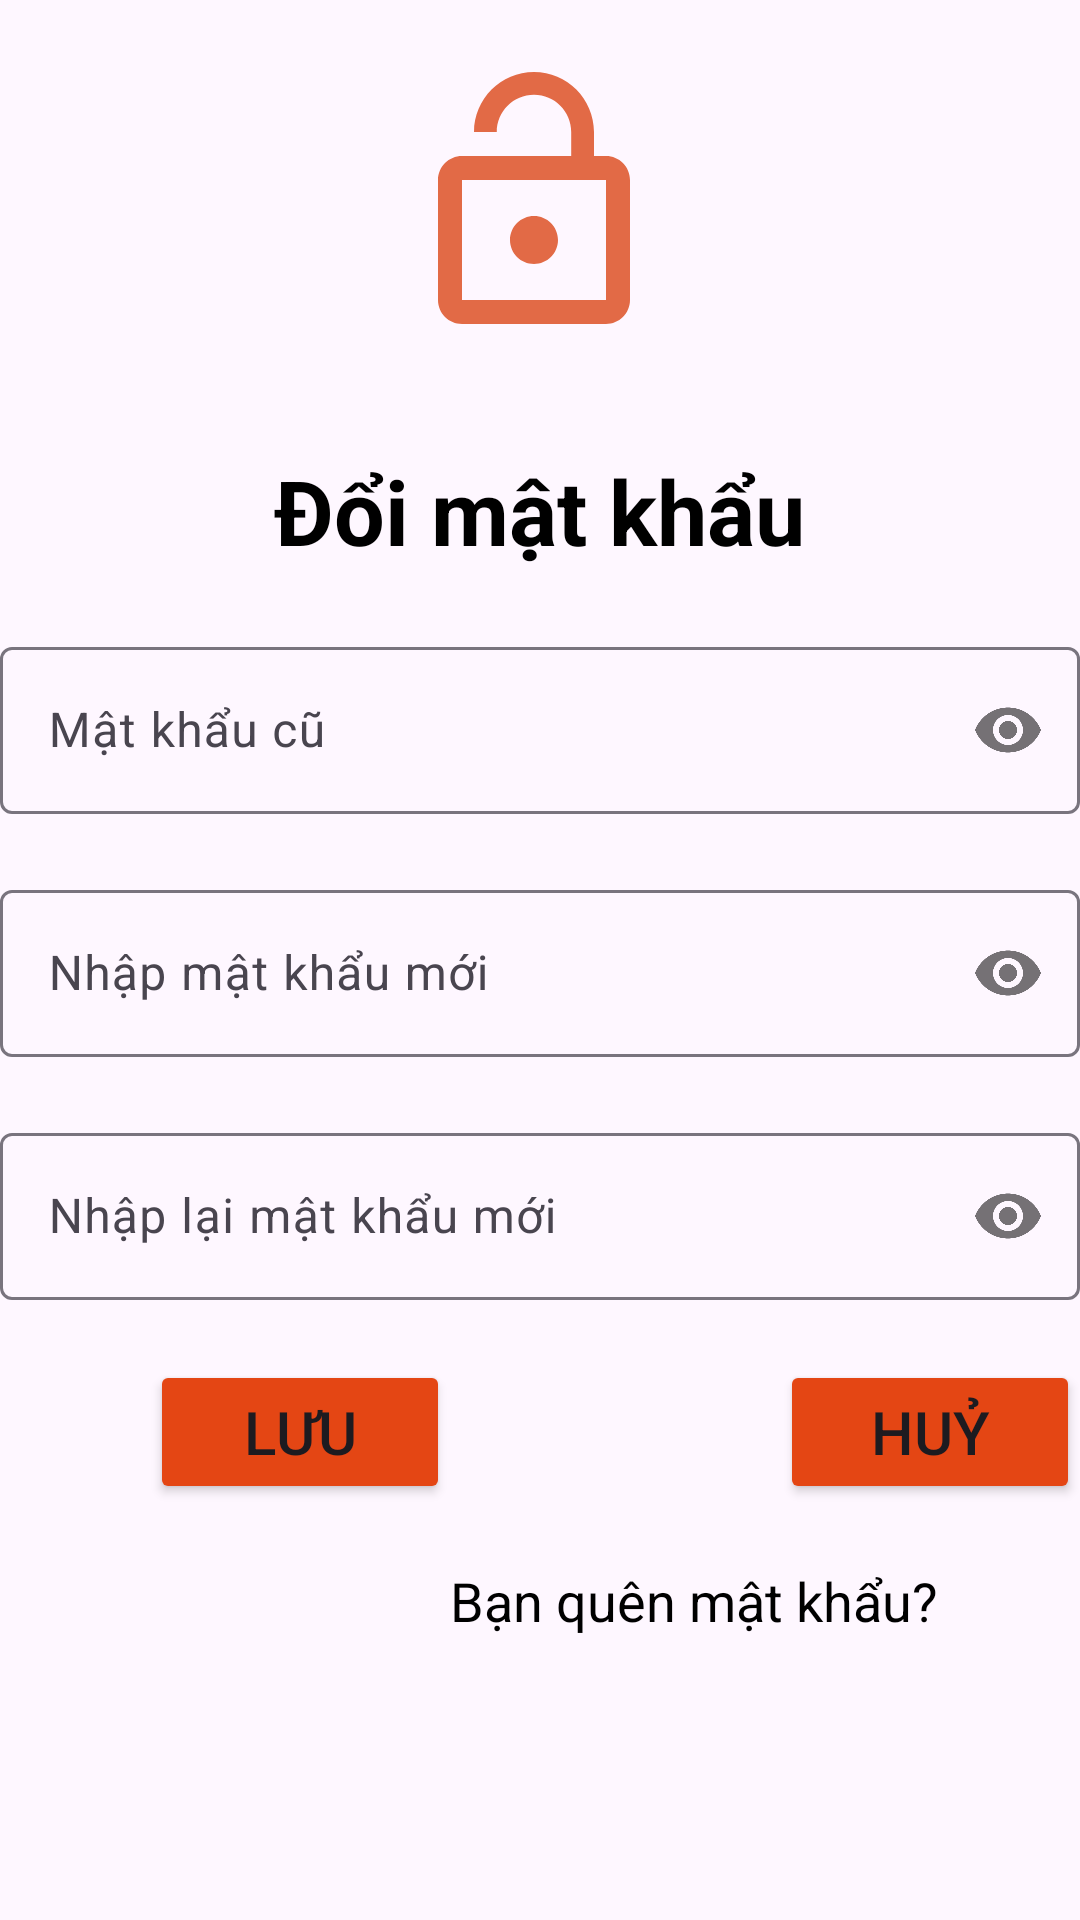

Locate icon controls on the screen. Image size 1080×1920, boxes as (x1, y1, x2, y2).
pass: (438, 72, 630, 324)
